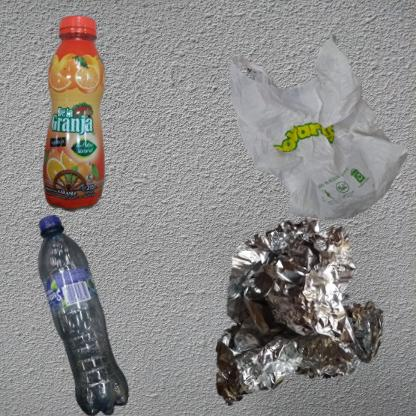aluminio: (213, 213, 388, 412)
bolsa: (213, 10, 416, 272)
botella: (10, 10, 169, 256), (10, 213, 164, 416)
